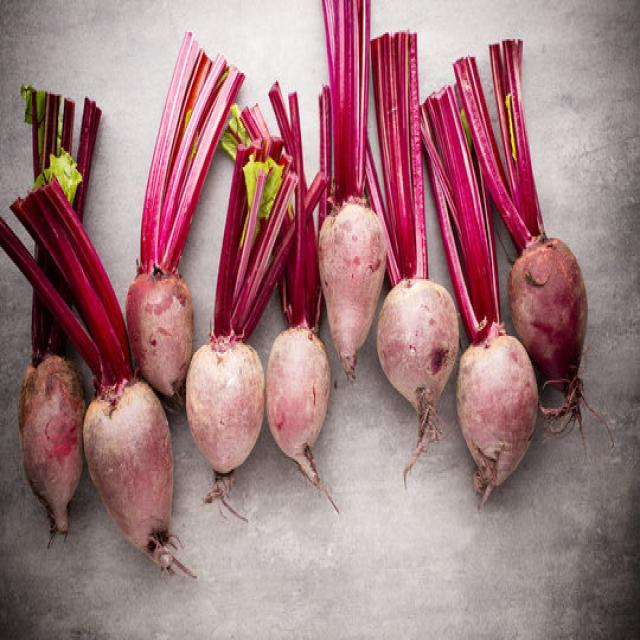Beetroot: (8, 169, 197, 581), (452, 36, 612, 452), (184, 117, 298, 523), (124, 28, 246, 402)
Garlic: (418, 84, 540, 508), (7, 84, 102, 548), (366, 28, 459, 489), (263, 80, 339, 514), (316, 0, 386, 380)
Ginger: (1, 2, 612, 581)
